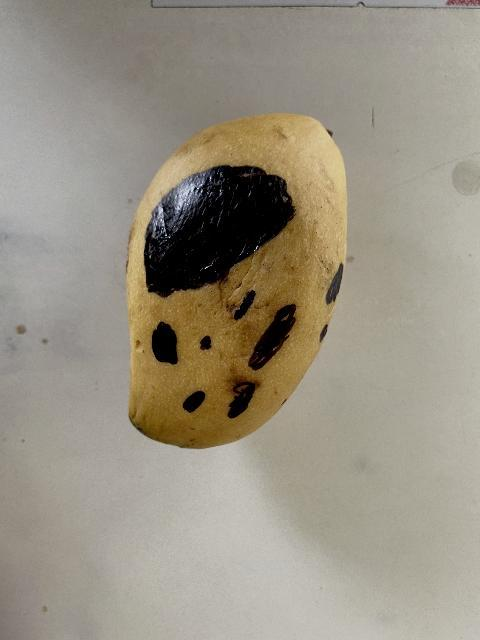Mango Overripe: (95, 87, 375, 488)
